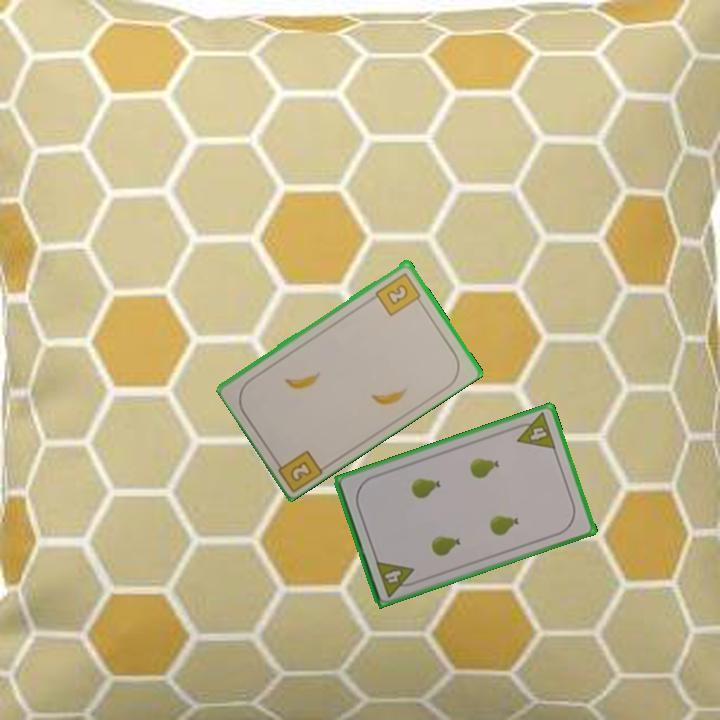2b: (270, 446, 327, 493), (372, 269, 424, 318)
4p: (509, 409, 559, 452), (372, 557, 420, 600)
